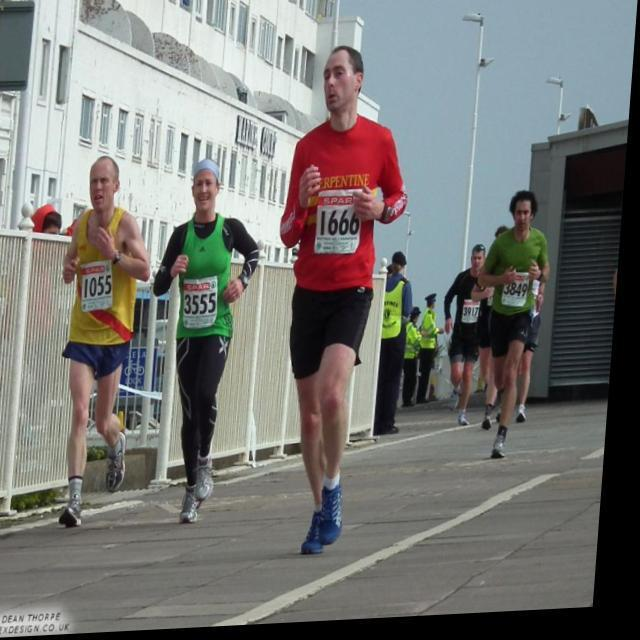dorsal: (308, 184, 376, 266), (74, 256, 127, 318), (180, 272, 228, 340), (503, 274, 538, 318), (462, 297, 489, 333)
